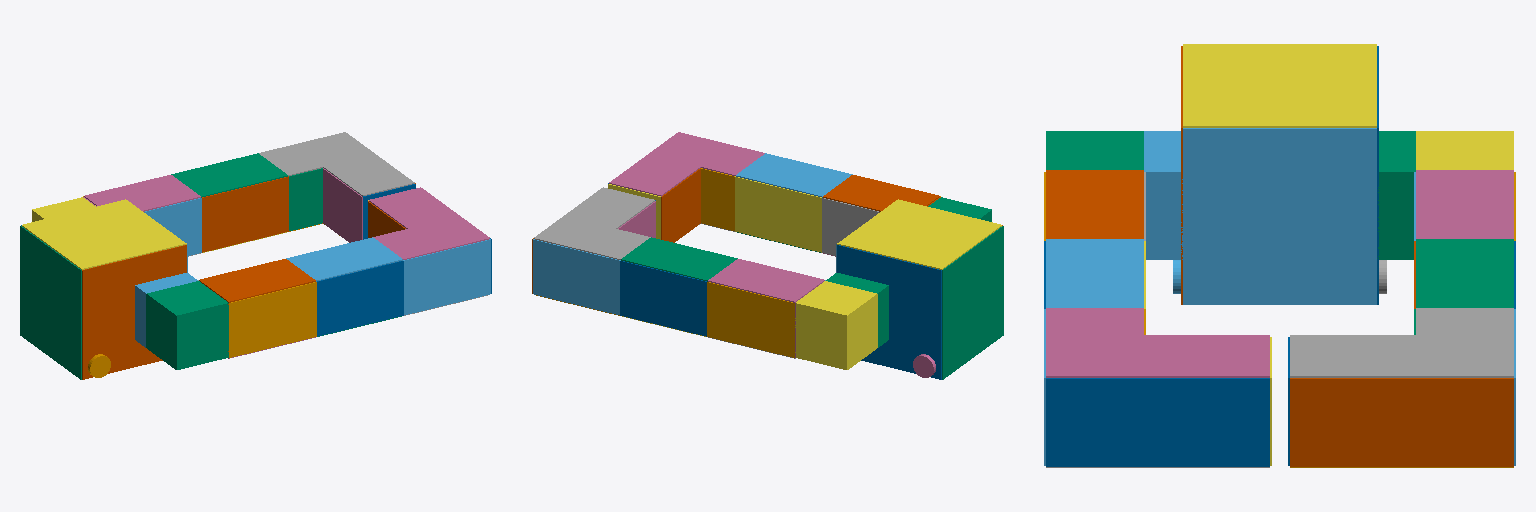
--- Facts derived from the render (not from the file) ---
3 views of the same robot in one strip: view 1: azimuth 30°, elevation 25°; view 2: azimuth 150°, elevation 25°; view 3: azimuth 270°, elevation 25° (orthographic).
Robot: robot — 78 links, 77 joints (4 continuous, 73 fixed); root link body; default pose: all joints at 0.
Links seen in each view (by area): view 1: body_sensor_0_right, body_sensor_0_stop, body_sensor_0_top, joint_4, right_arm_sensor_0_right, left_arm_sensor_1_right, right_arm_sensor_1_right, right_arm_sensor_2_right, right_arm_sensor_0_top, left_arm_sensor_1_top, right_arm_sensor_1_top, right_arm_sensor_2_top (+10 smaller); view 2: body_sensor_0_left, body_sensor_0_stop, body_sensor_0_top, joint_2, left_arm_sensor_0_left, right_arm_sensor_1_left, left_arm_sensor_1_left, left_arm_sensor_2_left, left_arm_sensor_0_top, left_arm_sensor_1_top, left_arm_sensor_2_top, right_arm_sensor_1_top (+10 smaller); view 3: body_sensor_0_start, body_sensor_0_top, left_hand_sensor_0_top, right_hand_sensor_0_top, left_arm_sensor_0_start, right_arm_sensor_0_start, left_arm_sensor_2_top, right_arm_sensor_2_top, left_arm_sensor_0_top, left_arm_sensor_1_top, right_arm_sensor_0_top, right_arm_sensor_1_top (+6 smaller).
Link boxes in pixels (x1,y1,x2,y2): body_sensor_0_right: (82,245,186,379); body_sensor_0_stop: (20,226,81,379); body_sensor_0_top: (22,199,186,269); joint_4: (146,281,228,369); right_arm_sensor_0_right: (229,282,316,357); left_arm_sensor_1_right: (202,176,288,252); right_arm_sensor_1_right: (317,261,403,336); right_arm_sensor_2_right: (403,239,490,314); right_arm_sensor_0_top: (199,259,315,302); left_arm_sensor_1_top: (171,153,287,197); right_arm_sensor_1_top: (286,237,402,281); right_arm_sensor_2_top: (373,216,489,259); body_sensor_0_left: (837,245,941,379); body_sensor_0_stop: (942,226,1003,379); body_sensor_0_top: (837,199,1001,269); joint_2: (795,281,877,369); left_arm_sensor_0_left: (707,282,794,357); right_arm_sensor_1_left: (735,176,821,252); left_arm_sensor_1_left: (620,261,706,336); left_arm_sensor_2_left: (533,239,620,314); left_arm_sensor_0_top: (708,259,824,302); left_arm_sensor_1_top: (621,237,737,281); left_arm_sensor_2_top: (534,216,650,259); right_arm_sensor_1_top: (736,153,852,197); body_sensor_0_start: (1183,128,1376,304); body_sensor_0_top: (1183,44,1376,127); left_hand_sensor_0_top: (1290,378,1415,466); right_hand_sensor_0_top: (1144,378,1269,466); left_arm_sensor_0_start: (1416,378,1513,466); right_arm_sensor_0_start: (1046,378,1143,466); left_arm_sensor_2_top: (1416,308,1513,377); right_arm_sensor_2_top: (1046,308,1143,377); left_arm_sensor_0_top: (1416,170,1513,238); left_arm_sensor_1_top: (1416,239,1513,307); right_arm_sensor_0_top: (1046,170,1143,238); right_arm_sensor_1_top: (1046,239,1143,307).
Size in the robot's own frame: 3.52 by 2.42 by 1.01 metres.
Geometry: primitives only (box / cylinder / sphere), no mesh files.

URDF robot description (robot):
<?xml version="1.0"?>
    <robot name="robot">


    <!-- body -->
    <link name="body">
        <inertial>
            <origin xyz="0 0 0" rpy="0 0 0"/>
            <mass value="100"/>
            <inertia ixx="15" ixy="15" ixz="15" iyy="15" iyz="15" izz="15"/>
        </inertial>
        <visual>
            <origin xyz="0 0 0" rpy="0 0 0"/>
            <geometry>
                <box size="1 1 1"/>
            </geometry>
        </visual>
        <collision>
            <origin xyz="0 0 0" rpy="0 0 0"/>
            <geometry>
                <box size="1 1 1"/>
            </geometry>
        </collision>
    </link>


    <!-- body_sensor_0_start -->
    <link name="body_sensor_0_start">
        <inertial>
            <origin xyz="0 0 0" rpy="0 0 0"/>
            <mass value="0"/>
            <inertia ixx="0" ixy="0" ixz="0" iyy="0" iyz="0" izz="0"/>
        </inertial>
        <visual>
            <origin xyz="0 0 0" rpy="0 0 0"/>
            <geometry>
                <box size="0.02 1 1"/>
            </geometry>
        </visual>
        <collision>
            <origin xyz="0 0 0" rpy="0 0 0"/>
            <geometry>
                <box size="0.02 1 1"/>
            </geometry>
        </collision>
    </link>
    <!-- Joint: body, body_sensor_0_start -->
    <joint name="body_body_sensor_0_start_joint" type="fixed">
        <parent link="body"/>
        <child link="body_sensor_0_start"/>
        <origin xyz="0.5 0 0"
                rpy="0 0 0"/>
        <axis xyz="1 0 0"/>
        
    </joint>


    <!-- body_sensor_0_stop -->
    <link name="body_sensor_0_stop">
        <inertial>
            <origin xyz="0 0 0" rpy="0 0 0"/>
            <mass value="0"/>
            <inertia ixx="0" ixy="0" ixz="0" iyy="0" iyz="0" izz="0"/>
        </inertial>
        <visual>
            <origin xyz="0 0 0" rpy="0 0 0"/>
            <geometry>
                <box size="0.02 1 1"/>
            </geometry>
        </visual>
        <collision>
            <origin xyz="0 0 0" rpy="0 0 0"/>
            <geometry>
                <box size="0.02 1 1"/>
            </geometry>
        </collision>
    </link>
    <!-- Joint: body, body_sensor_0_stop -->
    <joint name="body_body_sensor_0_stop_joint" type="fixed">
        <parent link="body"/>
        <child link="body_sensor_0_stop"/>
        <origin xyz="-0.5 0 0"
                rpy="0 0 0"/>
        <axis xyz="1 0 0"/>
        
    </joint>


    <!-- body_sensor_0_top -->
    <link name="body_sensor_0_top">
        <inertial>
            <origin xyz="0 0 0" rpy="0 0 0"/>
            <mass value="0"/>
            <inertia ixx="0" ixy="0" ixz="0" iyy="0" iyz="0" izz="0"/>
        </inertial>
        <visual>
            <origin xyz="0 0 0" rpy="0 0 0"/>
            <geometry>
                <box size="1.0 1 0.02"/>
            </geometry>
        </visual>
        <collision>
            <origin xyz="0 0 0" rpy="0 0 0"/>
            <geometry>
                <box size="1.0 1 0.02"/>
            </geometry>
        </collision>
    </link>
    <!-- Joint: body, body_sensor_0_top -->
    <joint name="body_body_sensor_0_top_joint" type="fixed">
        <parent link="body"/>
        <child link="body_sensor_0_top"/>
        <origin xyz="0 0 0.5"
                rpy="0 0 0"/>
        <axis xyz="1 0 0"/>
        
    </joint>


    <!-- body_sensor_0_left -->
    <link name="body_sensor_0_left">
        <inertial>
            <origin xyz="0 0 0" rpy="0 0 0"/>
            <mass value="0"/>
            <inertia ixx="0" ixy="0" ixz="0" iyy="0" iyz="0" izz="0"/>
        </inertial>
        <visual>
            <origin xyz="0 0 0" rpy="0 0 0"/>
            <geometry>
                <box size="1.0 0.02 1"/>
            </geometry>
        </visual>
        <collision>
            <origin xyz="0 0 0" rpy="0 0 0"/>
            <geometry>
                <box size="1.0 0.02 1"/>
            </geometry>
        </collision>
    </link>
    <!-- Joint: body, body_sensor_0_left -->
    <joint name="body_body_sensor_0_left_joint" type="fixed">
        <parent link="body"/>
        <child link="body_sensor_0_left"/>
        <origin xyz="0 0.5 0"
                rpy="0 0 0"/>
        <axis xyz="1 0 0"/>
        
    </joint>


    <!-- body_sensor_0_right -->
    <link name="body_sensor_0_right">
        <inertial>
            <origin xyz="0 0 0" rpy="0 0 0"/>
            <mass value="0"/>
            <inertia ixx="0" ixy="0" ixz="0" iyy="0" iyz="0" izz="0"/>
        </inertial>
        <visual>
            <origin xyz="0 0 0" rpy="0 0 0"/>
            <geometry>
                <box size="1.0 0.02 1"/>
            </geometry>
        </visual>
        <collision>
            <origin xyz="0 0 0" rpy="0 0 0"/>
            <geometry>
                <box size="1.0 0.02 1"/>
            </geometry>
        </collision>
    </link>
    <!-- Joint: body, body_sensor_0_right -->
    <joint name="body_body_sensor_0_right_joint" type="fixed">
        <parent link="body"/>
        <child link="body_sensor_0_right"/>
        <origin xyz="0 -0.5 0"
                rpy="0 0 0"/>
        <axis xyz="1 0 0"/>
        
    </joint>


    <!-- back_left_wheel -->
    <link name="back_left_wheel">
        <inertial>
            <origin xyz="0 0 0" rpy="0 0 0"/>
            <mass value="0.1"/>
            <inertia ixx="0.05" ixy="0.05" ixz="0.05" iyy="0.05" iyz="0.05" izz="0.05"/>
        </inertial>
        <visual>
            <origin xyz="0 0 0" rpy="0 0 0"/>
            <geometry>
                <cylinder radius="0.1" length="0.1"/>
            </geometry>
        </visual>
        <collision>
            <origin xyz="0 0 0" rpy="0 0 0"/>
            <geometry>
                <cylinder radius="0.1" length="0.1"/>
            </geometry>
        </collision>
    </link>
    <!-- Joint: body, back_left_wheel -->
    <joint name="body_back_left_wheel_joint" type="fixed">
        <parent link="body"/>
        <child link="back_left_wheel"/>
        <origin xyz="-0.35 0.5 -0.4"
                rpy="1.5708 0 0"/>
        <axis xyz="1 0 0"/>
        
    </joint>


    <!-- from_left_wheel -->
    <link name="from_left_wheel">
        <inertial>
            <origin xyz="0 0 0" rpy="0 0 0"/>
            <mass value="0.1"/>
            <inertia ixx="0.05" ixy="0.05" ixz="0.05" iyy="0.05" iyz="0.05" izz="0.05"/>
        </inertial>
        <visual>
            <origin xyz="0 0 0" rpy="0 0 0"/>
            <geometry>
                <cylinder radius="0.1" length="0.1"/>
            </geometry>
        </visual>
        <collision>
            <origin xyz="0 0 0" rpy="0 0 0"/>
            <geometry>
                <cylinder radius="0.1" length="0.1"/>
            </geometry>
        </collision>
    </link>
    <!-- Joint: body, from_left_wheel -->
    <joint name="body_from_left_wheel_joint" type="fixed">
        <parent link="body"/>
        <child link="from_left_wheel"/>
        <origin xyz="0.35 0.5 -0.4"
                rpy="1.5708 0 0"/>
        <axis xyz="1 0 0"/>
        
    </joint>


    <!-- back_right_wheel -->
    <link name="back_right_wheel">
        <inertial>
            <origin xyz="0 0 0" rpy="0 0 0"/>
            <mass value="0.1"/>
            <inertia ixx="0.05" ixy="0.05" ixz="0.05" iyy="0.05" iyz="0.05" izz="0.05"/>
        </inertial>
        <visual>
            <origin xyz="0 0 0" rpy="0 0 0"/>
            <geometry>
                <cylinder radius="0.1" length="0.1"/>
            </geometry>
        </visual>
        <collision>
            <origin xyz="0 0 0" rpy="0 0 0"/>
            <geometry>
                <cylinder radius="0.1" length="0.1"/>
            </geometry>
        </collision>
    </link>
    <!-- Joint: body, back_right_wheel -->
    <joint name="body_back_right_wheel_joint" type="fixed">
        <parent link="body"/>
        <child link="back_right_wheel"/>
        <origin xyz="-0.35 -0.5 -0.4"
                rpy="1.5708 0 0"/>
        <axis xyz="1 0 0"/>
        
    </joint>


    <!-- from_right_wheel -->
    <link name="from_right_wheel">
        <inertial>
            <origin xyz="0 0 0" rpy="0 0 0"/>
            <mass value="0.1"/>
            <inertia ixx="0.05" ixy="0.05" ixz="0.05" iyy="0.05" iyz="0.05" izz="0.05"/>
        </inertial>
        <visual>
            <origin xyz="0 0 0" rpy="0 0 0"/>
            <geometry>
                <cylinder radius="0.1" length="0.1"/>
            </geometry>
        </visual>
        <collision>
            <origin xyz="0 0 0" rpy="0 0 0"/>
            <geometry>
                <cylinder radius="0.1" length="0.1"/>
            </geometry>
        </collision>
    </link>
    <!-- Joint: body, from_right_wheel -->
    <joint name="body_from_right_wheel_joint" type="fixed">
        <parent link="body"/>
        <child link="from_right_wheel"/>
        <origin xyz="0.35 -0.5 -0.4"
                rpy="1.5708 0 0"/>
        <axis xyz="1 0 0"/>
        
    </joint>


    <!-- joint_1 -->
    <link name="joint_1">
        <inertial>
            <origin xyz="0 0 0" rpy="0 0 0"/>
            <mass value="0.1"/>
            <inertia ixx="0.05" ixy="0.05" ixz="0.05" iyy="0.05" iyz="0.05" izz="0.05"/>
        </inertial>
        <visual>
            <origin xyz="0 0 0" rpy="0 0 0"/>
            <geometry>
                <box size="0.5 0.2 0.5"/>
            </geometry>
        </visual>
        <collision>
            <origin xyz="0 0 0" rpy="0 0 0"/>
            <geometry>
                <box size="0.5 0.2 0.5"/>
            </geometry>
        </collision>
    </link>
    <!-- Joint: body, joint_1 -->
    <joint name="body_joint_1_joint" type="continuous">
        <parent link="body"/>
        <child link="joint_1"/>
        <origin xyz="0.25 0.6 0"
                rpy="0 0 0"/>
        <axis xyz="0 -1 0"/>
        <limit lower="0" upper="1.5707963267948966" effort="999" velocity="999"/>
    </joint>


    <!-- joint_2 -->
    <link name="joint_2">
        <inertial>
            <origin xyz="0 0 0" rpy="0 0 0"/>
            <mass value="0.1"/>
            <inertia ixx="0.05" ixy="0.05" ixz="0.05" iyy="0.05" iyz="0.05" izz="0.05"/>
        </inertial>
        <visual>
            <origin xyz="0 0 0" rpy="0 0 0"/>
            <geometry>
                <box size="0.5 0.5 0.5"/>
            </geometry>
        </visual>
        <collision>
            <origin xyz="0 0 0" rpy="0 0 0"/>
            <geometry>
                <box size="0.5 0.5 0.5"/>
            </geometry>
        </collision>
    </link>
    <!-- Joint: joint_1, joint_2 -->
    <joint name="joint_1_joint_2_joint" type="continuous">
        <parent link="joint_1"/>
        <child link="joint_2"/>
        <origin xyz="0 0.35 0"
                rpy="0 0 0"/>
        <axis xyz="0 0 1"/>
        <limit lower="-0.7853981633974483" upper="0.7853981633974483" effort="999" velocity="999"/>
    </joint>


    <!-- left_arm -->
    <link name="left_arm">
        <inertial>
            <origin xyz="0 0 0" rpy="0 0 0"/>
            <mass value="0.1"/>
            <inertia ixx="0.05" ixy="0.05" ixz="0.05" iyy="0.05" iyz="0.05" izz="0.05"/>
        </inertial>
        <visual>
            <origin xyz="0 0 0" rpy="0 0 0"/>
            <geometry>
                <box size="2.5 0.5 0.5"/>
            </geometry>
        </visual>
        <collision>
            <origin xyz="0 0 0" rpy="0 0 0"/>
            <geometry>
                <box size="2.5 0.5 0.5"/>
            </geometry>
        </collision>
    </link>


    <!-- left_arm_sensor_0_start -->
    <link name="left_arm_sensor_0_start">
        <inertial>
            <origin xyz="0 0 0" rpy="0 0 0"/>
            <mass value="0"/>
            <inertia ixx="0" ixy="0" ixz="0" iyy="0" iyz="0" izz="0"/>
        </inertial>
        <visual>
            <origin xyz="0 0 0" rpy="0 0 0"/>
            <geometry>
                <box size="0.02 0.5 0.5"/>
            </geometry>
        </visual>
        <collision>
            <origin xyz="0 0 0" rpy="0 0 0"/>
            <geometry>
                <box size="0.02 0.5 0.5"/>
            </geometry>
        </collision>
    </link>
    <!-- Joint: left_arm, left_arm_sensor_0_start -->
    <joint name="left_arm_left_arm_sensor_0_start_joint" type="fixed">
        <parent link="left_arm"/>
        <child link="left_arm_sensor_0_start"/>
        <origin xyz="1.25 0 0"
                rpy="0 0 0"/>
        <axis xyz="1 0 0"/>
        
    </joint>


    <!-- left_arm_sensor_0_top -->
    <link name="left_arm_sensor_0_top">
        <inertial>
            <origin xyz="0 0 0" rpy="0 0 0"/>
            <mass value="0"/>
            <inertia ixx="0" ixy="0" ixz="0" iyy="0" iyz="0" izz="0"/>
        </inertial>
        <visual>
            <origin xyz="0 0 0" rpy="0 0 0"/>
            <geometry>
                <box size="0.8333333333333334 0.5 0.02"/>
            </geometry>
        </visual>
        <collision>
            <origin xyz="0 0 0" rpy="0 0 0"/>
            <geometry>
                <box size="0.8333333333333334 0.5 0.02"/>
            </geometry>
        </collision>
    </link>
    <!-- Joint: left_arm, left_arm_sensor_0_top -->
    <joint name="left_arm_left_arm_sensor_0_top_joint" type="fixed">
        <parent link="left_arm"/>
        <child link="left_arm_sensor_0_top"/>
        <origin xyz="-0.8333333333333333 0 0.25"
                rpy="0 0 0"/>
        <axis xyz="1 0 0"/>
        
    </joint>


    <!-- left_arm_sensor_0_bottom -->
    <link name="left_arm_sensor_0_bottom">
        <inertial>
            <origin xyz="0 0 0" rpy="0 0 0"/>
            <mass value="0"/>
            <inertia ixx="0" ixy="0" ixz="0" iyy="0" iyz="0" izz="0"/>
        </inertial>
        <visual>
            <origin xyz="0 0 0" rpy="0 0 0"/>
            <geometry>
                <box size="0.8333333333333334 0.5 0.02"/>
            </geometry>
        </visual>
        <collision>
            <origin xyz="0 0 0" rpy="0 0 0"/>
            <geometry>
                <box size="0.8333333333333334 0.5 0.02"/>
            </geometry>
        </collision>
    </link>
    <!-- Joint: left_arm, left_arm_sensor_0_bottom -->
    <joint name="left_arm_left_arm_sensor_0_bottom_joint" type="fixed">
        <parent link="left_arm"/>
        <child link="left_arm_sensor_0_bottom"/>
        <origin xyz="-0.8333333333333333 0 -0.25"
                rpy="0 0 0"/>
        <axis xyz="1 0 0"/>
        
    </joint>


    <!-- left_arm_sensor_0_left -->
    <link name="left_arm_sensor_0_left">
        <inertial>
            <origin xyz="0 0 0" rpy="0 0 0"/>
            <mass value="0"/>
            <inertia ixx="0" ixy="0" ixz="0" iyy="0" iyz="0" izz="0"/>
        </inertial>
        <visual>
            <origin xyz="0 0 0" rpy="0 0 0"/>
            <geometry>
                <box size="0.8333333333333334 0.02 0.5"/>
            </geometry>
        </visual>
        <collision>
            <origin xyz="0 0 0" rpy="0 0 0"/>
            <geometry>
                <box size="0.8333333333333334 0.02 0.5"/>
            </geometry>
        </collision>
    </link>
    <!-- Joint: left_arm, left_arm_sensor_0_left -->
    <joint name="left_arm_left_arm_sensor_0_left_joint" type="fixed">
        <parent link="left_arm"/>
        <child link="left_arm_sensor_0_left"/>
        <origin xyz="-0.8333333333333333 0.25 0"
                rpy="0 0 0"/>
        <axis xyz="1 0 0"/>
        
    </joint>


    <!-- left_arm_sensor_0_right -->
    <link name="left_arm_sensor_0_right">
        <inertial>
            <origin xyz="0 0 0" rpy="0 0 0"/>
            <mass value="0"/>
            <inertia ixx="0" ixy="0" ixz="0" iyy="0" iyz="0" izz="0"/>
        </inertial>
        <visual>
            <origin xyz="0 0 0" rpy="0 0 0"/>
            <geometry>
                <box size="0.8333333333333334 0.02 0.5"/>
            </geometry>
        </visual>
        <collision>
            <origin xyz="0 0 0" rpy="0 0 0"/>
            <geometry>
                <box size="0.8333333333333334 0.02 0.5"/>
            </geometry>
        </collision>
    </link>
    <!-- Joint: left_arm, left_arm_sensor_0_right -->
    <joint name="left_arm_left_arm_sensor_0_right_joint" type="fixed">
        <parent link="left_arm"/>
        <child link="left_arm_sensor_0_right"/>
        <origin xyz="-0.8333333333333333 -0.25 0"
                rpy="0 0 0"/>
        <axis xyz="1 0 0"/>
        
    </joint>


    <!-- left_arm_sensor_1_top -->
    <link name="left_arm_sensor_1_top">
        <inertial>
            <origin xyz="0 0 0" rpy="0 0 0"/>
            <mass value="0"/>
            <inertia ixx="0" ixy="0" ixz="0" iyy="0" iyz="0" izz="0"/>
        </inertial>
        <visual>
            <origin xyz="0 0 0" rpy="0 0 0"/>
            <geometry>
                <box size="0.8333333333333334 0.5 0.02"/>
            </geometry>
        </visual>
        <collision>
            <origin xyz="0 0 0" rpy="0 0 0"/>
            <geometry>
                <box size="0.8333333333333334 0.5 0.02"/>
            </geometry>
        </collision>
    </link>
    <!-- Joint: left_arm, left_arm_sensor_1_top -->
    <joint name="left_arm_left_arm_sensor_1_top_joint" type="fixed">
        <parent link="left_arm"/>
        <child link="left_arm_sensor_1_top"/>
        <origin xyz="1.1102230246251565e-16 0 0.25"
                rpy="0 0 0"/>
        <axis xyz="1 0 0"/>
        
    </joint>


    <!-- left_arm_sensor_1_bottom -->
    <link name="left_arm_sensor_1_bottom">
        <inertial>
            <origin xyz="0 0 0" rpy="0 0 0"/>
            <mass value="0"/>
            <inertia ixx="0" ixy="0" ixz="0" iyy="0" iyz="0" izz="0"/>
        </inertial>
        <visual>
            <origin xyz="0 0 0" rpy="0 0 0"/>
            <geometry>
                <box size="0.8333333333333334 0.5 0.02"/>
            </geometry>
        </visual>
        <collision>
            <origin xyz="0 0 0" rpy="0 0 0"/>
            <geometry>
                <box size="0.8333333333333334 0.5 0.02"/>
            </geometry>
        </collision>
    </link>
    <!-- Joint: left_arm, left_arm_sensor_1_bottom -->
    <joint name="left_arm_left_arm_sensor_1_bottom_joint" type="fixed">
        <parent link="left_arm"/>
        <child link="left_arm_sensor_1_bottom"/>
        <origin xyz="1.1102230246251565e-16 0 -0.25"
                rpy="0 0 0"/>
        <axis xyz="1 0 0"/>
        
    </joint>


    <!-- left_arm_sensor_1_left -->
    <link name="left_arm_sensor_1_left">
        <inertial>
            <origin xyz="0 0 0" rpy="0 0 0"/>
            <mass value="0"/>
            <inertia ixx="0" ixy="0" ixz="0" iyy="0" iyz="0" izz="0"/>
        </inertial>
        <visual>
            <origin xyz="0 0 0" rpy="0 0 0"/>
            <geometry>
                <box size="0.8333333333333334 0.02 0.5"/>
            </geometry>
        </visual>
        <collision>
            <origin xyz="0 0 0" rpy="0 0 0"/>
            <geometry>
                <box size="0.8333333333333334 0.02 0.5"/>
            </geometry>
        </collision>
    </link>
    <!-- Joint: left_arm, left_arm_sensor_1_left -->
    <joint name="left_arm_left_arm_sensor_1_left_joint" type="fixed">
        <parent link="left_arm"/>
        <child link="left_arm_sensor_1_left"/>
        <origin xyz="1.1102230246251565e-16 0.25 0"
                rpy="0 0 0"/>
        <axis xyz="1 0 0"/>
        
    </joint>


    <!-- left_arm_sensor_1_right -->
    <link name="left_arm_sensor_1_right">
        <inertial>
            <origin xyz="0 0 0" rpy="0 0 0"/>
            <mass value="0"/>
            <inertia ixx="0" ixy="0" ixz="0" iyy="0" iyz="0" izz="0"/>
        </inertial>
        <visual>
            <origin xyz="0 0 0" rpy="0 0 0"/>
            <geometry>
                <box size="0.8333333333333334 0.02 0.5"/>
            </geometry>
        </visual>
        <collision>
            <origin xyz="0 0 0" rpy="0 0 0"/>
            <geometry>
                <box size="0.8333333333333334 0.02 0.5"/>
            </geometry>
        </collision>
    </link>
    <!-- Joint: left_arm, left_arm_sensor_1_right -->
    <joint name="left_arm_left_arm_sensor_1_right_joint" type="fixed">
        <parent link="left_arm"/>
        <child link="left_arm_sensor_1_right"/>
        <origin xyz="1.1102230246251565e-16 -0.25 0"
                rpy="0 0 0"/>
        <axis xyz="1 0 0"/>
        
    </joint>


    <!-- left_arm_sensor_2_stop -->
    <link name="left_arm_sensor_2_stop">
        <inertial>
            <origin xyz="0 0 0" rpy="0 0 0"/>
            <mass value="0"/>
            <inertia ixx="0" ixy="0" ixz="0" iyy="0" iyz="0" izz="0"/>
        </inertial>
        <visual>
            <origin xyz="0 0 0" rpy="0 0 0"/>
            <geometry>
                <box size="0.02 0.5 0.5"/>
            </geometry>
        </visual>
        <collision>
            <origin xyz="0 0 0" rpy="0 0 0"/>
            <geometry>
                <box size="0.02 0.5 0.5"/>
            </geometry>
        </collision>
    </link>
    <!-- Joint: left_arm, left_arm_sensor_2_stop -->
    <joint name="left_arm_left_arm_sensor_2_stop_joint" type="fixed">
        <parent link="left_arm"/>
        <child link="left_arm_sensor_2_stop"/>
        <origin xyz="-1.25 0 0"
                rpy="0 0 0"/>
        <axis xyz="1 0 0"/>
        
    </joint>


    <!-- left_arm_sensor_2_top -->
    <link name="left_arm_sensor_2_top">
        <inertial>
            <origin xyz="0 0 0" rpy="0 0 0"/>
            <mass value="0"/>
            <inertia ixx="0" ixy="0" ixz="0" iyy="0" iyz="0" izz="0"/>
        </inertial>
        <visual>
            <origin xyz="0 0 0" rpy="0 0 0"/>
            <geometry>
                <box size="0.8333333333333334 0.5 0.02"/>
            </geometry>
        </visual>
        <collision>
            <origin xyz="0 0 0" rpy="0 0 0"/>
            <geometry>
                <box size="0.8333333333333334 0.5 0.02"/>
            </geometry>
        </collision>
    </link>
    <!-- Joint: left_arm, left_arm_sensor_2_top -->
    <joint name="left_arm_left_arm_sensor_2_top_joint" type="fixed">
        <parent link="left_arm"/>
        <child link="left_arm_sensor_2_top"/>
        <origin xyz="0.8333333333333335 0 0.25"
                rpy="0 0 0"/>
        <axis xyz="1 0 0"/>
        
    </joint>


    <!-- left_arm_sensor_2_bottom -->
    <link name="left_arm_sensor_2_bottom">
        <inertial>
            <origin xyz="0 0 0" rpy="0 0 0"/>
            <mass value="0"/>
            <inertia ixx="0" ixy="0" ixz="0" iyy="0" iyz="0" izz="0"/>
        </inertial>
        <visual>
            <origin xyz="0 0 0" rpy="0 0 0"/>
            <geometry>
                <box size="0.8333333333333334 0.5 0.02"/>
            </geometry>
        </visual>
        <collision>
            <origin xyz="0 0 0" rpy="0 0 0"/>
            <geometry>
                <box size="0.8333333333333334 0.5 0.02"/>
            </geometry>
        </collision>
    </link>
    <!-- Joint: left_arm, left_arm_sensor_2_bottom -->
    <joint name="left_arm_left_arm_sensor_2_bottom_joint" type="fixed">
        <parent link="left_arm"/>
        <child link="left_arm_sensor_2_bottom"/>
        <origin xyz="0.8333333333333335 0 -0.25"
                rpy="0 0 0"/>
        <axis xyz="1 0 0"/>
        
    </joint>


    <!-- left_arm_sensor_2_left -->
    <link name="left_arm_sensor_2_left">
        <inertial>
            <origin xyz="0 0 0" rpy="0 0 0"/>
            <mass value="0"/>
            <inertia ixx="0" ixy="0" ixz="0" iyy="0" iyz="0" izz="0"/>
        </inertial>
        <visual>
            <origin xyz="0 0 0" rpy="0 0 0"/>
            <geometry>
                <box size="0.8333333333333334 0.02 0.5"/>
            </geometry>
        </visual>
        <collision>
            <origin xyz="0 0 0" rpy="0 0 0"/>
            <geometry>
                <box size="0.8333333333333334 0.02 0.5"/>
            </geometry>
        </collision>
    </link>
    <!-- Joint: left_arm, left_arm_sensor_2_left -->
    <joint name="left_arm_left_arm_sensor_2_left_joint" type="fixed">
        <parent link="left_arm"/>
        <child link="left_arm_sensor_2_left"/>
        <origin xyz="0.8333333333333335 0.25 0"
                rpy="0 0 0"/>
        <axis xyz="1 0 0"/>
        
    </joint>


    <!-- left_arm_sensor_2_right -->
    <link name="left_arm_sensor_2_right">
        <inertial>
            <origin xyz="0 0 0" rpy="0 0 0"/>
            <mass value="0"/>
            <inertia ixx="0" ixy="0" ixz="0" iyy="0" iyz="0" izz="0"/>
        </inertial>
        <visual>
            <origin xyz="0 0 0" rpy="0 0 0"/>
            <geometry>
                <box size="0.8333333333333334 0.02 0.5"/>
            </geometry>
        </visual>
        <collision>
            <origin xyz="0 0 0" rpy="0 0 0"/>
            <geometry>
                <box size="0.8333333333333334 0.02 0.5"/>
            </geometry>
        </collision>
    </link>
    <!-- Joint: left_arm, left_arm_sensor_2_right -->
    <joint name="left_arm_left_arm_sensor_2_right_joint" type="fixed">
        <parent link="left_arm"/>
        <child link="left_arm_sensor_2_right"/>
        <origin xyz="0.8333333333333335 -0.25 0"
                rpy="0 0 0"/>
        <axis xyz="1 0 0"/>
        
    </joint>
    <!-- Joint: joint_2, left_arm -->
    <joint name="joint_2_left_arm_joint" type="fixed">
        <parent link="joint_2"/>
        <child link="left_arm"/>
        <origin xyz="1.5 0 0"
                rpy="0 0 0"/>
        <axis xyz="1 0 0"/>
        
    </joint>


    <!-- left_hand -->
    <link name="left_hand">
        <inertial>
            <origin xyz="0 0 0" rpy="0 0 0"/>
            <mass value="0.1"/>
            <inertia ixx="0.05" ixy="0.05" ixz="0.05" iyy="0.05" iyz="0.05" izz="0.05"/>
        </inertial>
        <visual>
            <origin xyz="0 0 0" rpy="0 0 0"/>
            <geometry>
                <box size="0.5 0.65 0.5"/>
            </geometry>
        </visual>
        <collision>
            <origin xyz="0 0 0" rpy="0 0 0"/>
            <geometry>
                <box size="0.5 0.65 0.5"/>
            </geometry>
        </collision>
    </link>


    <!-- left_hand_sensor_0_stop -->
    <link name="left_hand_sensor_0_stop">
        <inertial>
            <origin xyz="0 0 0" rpy="0 0 0"/>
            <mass value="0"/>
            <inertia ixx="0" ixy="0" ixz="0" iyy="0" iyz="0" izz="0"/>
        </inertial>
        <visual>
            <origin xyz="0 0 0" rpy="0 0 0"/>
            <geometry>
                <box size="0.5 0.02 0.5"/>
            </geometry>
        </visual>
        <collision>
            <origin xyz="0 0 0" rpy="0 0 0"/>
            <geometry>
                <box size="0.5 0.02 0.5"/>
            </geometry>
        </collision>
    </link>
    <!-- Joint: left_hand, left_hand_sensor_0_stop -->
    <joint name="left_hand_left_hand_sensor_0_stop_joint" type="fixed">
        <parent link="left_hand"/>
        <child link="left_hand_sensor_0_stop"/>
        <origin xyz="0 -0.325 0"
                rpy="0 0 0"/>
        <axis xyz="0 0 1"/>
        
    </joint>


    <!-- left_hand_sensor_0_top -->
    <link name="left_hand_sensor_0_top">
        <inertial>
            <origin xyz="0 0 0" rpy="0 0 0"/>
            <mass value="0"/>
            <inertia ixx="0" ixy="0" ixz="0" iyy="0" iyz="0" izz="0"/>
        </inertial>
        <visual>
            <origin xyz="0 0 0" rpy="0 0 0"/>
            <geometry>
                <box size="0.02 0.65 0.5"/>
            </geometry>
        </visual>
        <collision>
            <origin xyz="0 0 0" rpy="0 0 0"/>
            <geometry>
                <box size="0.02 0.65 0.5"/>
            </geometry>
        </collision>
    </link>
    <!-- Joint: left_hand, left_hand_sensor_0_top -->
    <joint name="left_hand_left_hand_sensor_0_top_joint" type="fixed">
        <parent link="left_hand"/>
        <child link="left_hand_sensor_0_top"/>
        <origin xyz="0.25 0 0"
                rpy="0 0 0"/>
        <axis xyz="0 0 1"/>
        
    </joint>


    <!-- left_hand_sensor_0_bottom -->
    <link name="left_hand_sensor_0_bottom">
        <inertial>
            <origin xyz="0 0 0" rpy="0 0 0"/>
            <mass value="0"/>
            <inertia ixx="0" ixy="0" ixz="0" iyy="0" iyz="0" izz="0"/>
        </inertial>
        <visual>
            <origin xyz="0 0 0" rpy="0 0 0"/>
            <geometry>
                <box size="0.02 0.65 0.5"/>
            </geometry>
        </visual>
        <collision>
            <origin xyz="0 0 0" rpy="0 0 0"/>
            <geometry>
                <box size="0.02 0.65 0.5"/>
            </geometry>
        </collision>
    </link>
    <!-- Joint: left_hand, left_hand_sensor_0_bottom -->
    <joint name="left_hand_left_hand_sensor_0_bottom_joint" type="fixed">
        <parent link="left_hand"/>
        <child link="left_hand_sensor_0_bottom"/>
        <origin xyz="-0.25 0 0"
                rpy="0 0 0"/>
        <axis xyz="0 0 1"/>
        
    </joint>


    <!-- left_hand_sensor_0_left -->
    <link name="left_hand_sensor_0_left">
        <inertial>
            <origin xyz="0 0 0" rpy="0 0 0"/>
            <mass value="0"/>
            <inertia ixx="0" ixy="0" ixz="0" iyy="0" iyz="0" izz="0"/>
        </inertial>
        <visual>
            <origin xyz="0 0 0" rpy="0 0 0"/>
            <geometry>
                <box size="0.5 0.65 0.02"/>
            </geometry>
        </visual>
        <collision>
            <origin xyz="0 0 0" rpy="0 0 0"/>
            <geometry>
                <box size="0.5 0.65 0.02"/>
            </geometry>
        </collision>
    </link>
    <!-- Joint: left_hand, left_hand_sensor_0_left -->
    <joint name="left_hand_left_hand_sensor_0_left_joint" type="fixed">
        <parent link="left_hand"/>
        <child link="left_hand_sensor_0_left"/>
        <origin xyz="0 0 0.25"
                rpy="0 0 0"/>
        <axis xyz="0 0 1"/>
        
    </joint>


    <!-- left_hand_sensor_0_right -->
    <link name="left_hand_sensor_0_right">
        <inertial>
            <origin xyz="0 0 0" rpy="0 0 0"/>
            <mass value="0"/>
            <inertia ixx="0" ixy="0" ixz="0" iyy="0" iyz="0" izz="0"/>
        </inertial>
        <visual>
            <origin xyz="0 0 0" rpy="0 0 0"/>
            <geometry>
                <box size="0.5 0.65 0.02"/>
            </geometry>
        </visual>
        <collision>
            <origin xyz="0 0 0" rpy="0 0 0"/>
            <geometry>
                <box size="0.5 0.65 0.02"/>
            </geometry>
        </collision>
    </link>
    <!-- Joint: left_hand, left_hand_sensor_0_right -->
    <joint name="left_hand_left_hand_sensor_0_right_joint" type="fixed">
        <parent link="left_hand"/>
        <child link="left_hand_sensor_0_right"/>
        <origin xyz="0 0 -0.25"
                rpy="0 0 0"/>
        <axis xyz="0 0 1"/>
        
    </joint>
    <!-- Joint: left_arm, left_hand -->
    <joint name="left_arm_left_hand_joint" type="fixed">
        <parent link="left_arm"/>
        <child link="left_hand"/>
        <origin xyz="1.0 -0.575 0"
                rpy="0 0 0"/>
        <axis xyz="0 0 1"/>
        
    </joint>


    <!-- joint_3 -->
    <link name="joint_3">
        <inertial>
            <origin xyz="0 0 0" rpy="0 0 0"/>
            <mass value="0.1"/>
            <inertia ixx="0.05" ixy="0.05" ixz="0.05" iyy="0.05" iyz="0.05" izz="0.05"/>
        </inertial>
        <visual>
            <origin xyz="0 0 0" rpy="0 0 0"/>
            <geometry>
                <box size="0.5 0.2 0.5"/>
            </geometry>
        </visual>
        <collision>
            <origin xyz="0 0 0" rpy="0 0 0"/>
            <geometry>
                <box size="0.5 0.2 0.5"/>
            </geometry>
        </collision>
    </link>
    <!-- Joint: body, joint_3 -->
    <joint name="body_joint_3_joint" type="continuous">
        <parent link="body"/>
        <child link="joint_3"/>
        <origin xyz="0.25 -0.6 0"
                rpy="0 0 0"/>
        <axis xyz="0 -1 0"/>
        <limit lower="0" upper="1.5707963267948966" effort="999" velocity="999"/>
    </joint>


    <!-- joint_4 -->
    <link name="joint_4">
        <inertial>
            <origin xyz="0 0 0" rpy="0 0 0"/>
            <mass value="0.1"/>
            <inertia ixx="0.05" ixy="0.05" ixz="0.05" iyy="0.05" iyz="0.05" izz="0.05"/>
        </inertial>
        <visual>
            <origin xyz="0 0 0" rpy="0 0 0"/>
            <geometry>
                <box size="0.5 0.5 0.5"/>
            </geometry>
        </visual>
        <collision>
            <origin xyz="0 0 0" rpy="0 0 0"/>
            <geometry>
                <box size="0.5 0.5 0.5"/>
            </geometry>
        </collision>
    </link>
    <!-- Joint: joint_3, joint_4 -->
    <joint name="joint_3_joint_4_joint" type="continuous">
        <parent link="joint_3"/>
        <child link="joint_4"/>
        <origin xyz="0 -0.35 0"
                rpy="0 0 0"/>
        <axis xyz="0 0 1"/>
        <limit lower="-0.7853981633974483" upper="0.7853981633974483" effort="999" velocity="999"/>
    </joint>


    <!-- right_arm -->
    <link name="right_arm">
        <inertial>
            <origin xyz="0 0 0" rpy="0 0 0"/>
            <mass value="0.1"/>
            <inertia ixx="0.05" ixy="0.05" ixz="0.05" iyy="0.05" iyz="0.05" izz="0.05"/>
        </inertial>
        <visual>
            <origin xyz="0 0 0" rpy="0 0 0"/>
            <geometry>
                <box size="2.5 0.5 0.5"/>
            </geometry>
        </visual>
        <collision>
            <origin xyz="0 0 0" rpy="0 0 0"/>
            <geometry>
                <box size="2.5 0.5 0.5"/>
            </geometry>
        </collision>
    </link>


    <!-- right_arm_sensor_0_start -->
    <link name="right_arm_sensor_0_start">
        <inertial>
            <origin xyz="0 0 0" rpy="0 0 0"/>
            <mass value="0"/>
            <inertia ixx="0" ixy="0" ixz="0" iyy="0" iyz="0" izz="0"/>
        </inertial>
        <visual>
            <origin xyz="0 0 0" rpy="0 0 0"/>
            <geometry>
                <box size="0.02 0.5 0.5"/>
            </geometry>
        </visual>
        <collision>
            <origin xyz="0 0 0" rpy="0 0 0"/>
            <geometry>
                <box size="0.02 0.5 0.5"/>
            </geometry>
        </collision>
    </link>
    <!-- Joint: right_arm, right_arm_sensor_0_start -->
    <joint name="right_arm_right_arm_sensor_0_start_joint" type="fixed">
        <parent link="right_arm"/>
        <child link="right_arm_sensor_0_start"/>
        <origin xyz="1.25 0 0"
                rpy="0 0 0"/>
        <axis xyz="1 0 0"/>
        
    </joint>


    <!-- right_arm_sensor_0_top -->
    <link name="right_arm_sensor_0_top">
        <inertial>
            <origin xyz="0 0 0" rpy="0 0 0"/>
            <mass value="0"/>
            <inertia ixx="0" ixy="0" ixz="0" iyy="0" iyz="0" izz="0"/>
        </inertial>
        <visual>
            <origin xyz="0 0 0" rpy="0 0 0"/>
            <geometry>
                <box size="0.8333333333333334 0.5 0.02"/>
            </geometry>
        </visual>
        <collision>
            <origin xyz="0 0 0" rpy="0 0 0"/>
            <geometry>
                <box size="0.8333333333333334 0.5 0.02"/>
            </geometry>
        </collision>
    </link>
    <!-- Joint: right_arm, right_arm_sensor_0_top -->
    <joint name="right_arm_right_arm_sensor_0_top_joint" type="fixed">
        <parent link="right_arm"/>
        <child link="right_arm_sensor_0_top"/>
        <origin xyz="-0.8333333333333333 0 0.25"
                rpy="0 0 0"/>
        <axis xyz="1 0 0"/>
        
    </joint>


    <!-- right_arm_sensor_0_bottom -->
    <link name="right_arm_sensor_0_bottom">
        <inertial>
            <origin xyz="0 0 0" rpy="0 0 0"/>
            <mass value="0"/>
            <inertia ixx="0" ixy="0" ixz="0" iyy="0" iyz="0" izz="0"/>
        </inertial>
        <visual>
            <origin xyz="0 0 0" rpy="0 0 0"/>
            <geometry>
                <box size="0.8333333333333334 0.5 0.02"/>
            </geometry>
        </visual>
        <collision>
            <origin xyz="0 0 0" rpy="0 0 0"/>
            <geometry>
                <box size="0.8333333333333334 0.5 0.02"/>
            </geometry>
        </collision>
    </link>
    <!-- Joint: right_arm, right_arm_sensor_0_bottom -->
    <joint name="right_arm_right_arm_sensor_0_bottom_joint" type="fixed">
        <parent link="right_arm"/>
        <child link="right_arm_sensor_0_bottom"/>
        <origin xyz="-0.8333333333333333 0 -0.25"
                rpy="0 0 0"/>
        <axis xyz="1 0 0"/>
        
    </joint>


    <!-- right_arm_sensor_0_left -->
    <link name="right_arm_sensor_0_left">
        <inertial>
            <origin xyz="0 0 0" rpy="0 0 0"/>
            <mass value="0"/>
            <inertia ixx="0" ixy="0" ixz="0" iyy="0" iyz="0" izz="0"/>
        </inertial>
        <visual>
            <origin xyz="0 0 0" rpy="0 0 0"/>
            <geometry>
                <box size="0.8333333333333334 0.02 0.5"/>
            </geometry>
        </visual>
        <collision>
            <origin xyz="0 0 0" rpy="0 0 0"/>
            <geometry>
                <box size="0.8333333333333334 0.02 0.5"/>
            </geometry>
        </collision>
    </link>
    <!-- Joint: right_arm, right_arm_sensor_0_left -->
    <joint name="right_arm_right_arm_sensor_0_left_joint" type="fixed">
        <parent link="right_arm"/>
        <child link="right_arm_sensor_0_left"/>
        <origin xyz="-0.8333333333333333 0.25 0"
                rpy="0 0 0"/>
        <axis xyz="1 0 0"/>
        
    </joint>


    <!-- right_arm_sensor_0_right -->
    <link name="right_arm_sensor_0_right">
        <inertial>
            <origin xyz="0 0 0" rpy="0 0 0"/>
            <mass value="0"/>
            <inertia ixx="0" ixy="0" ixz="0" iyy="0" iyz="0" izz="0"/>
        </inertial>
        <visual>
            <origin xyz="0 0 0" rpy="0 0 0"/>
            <geometry>
                <box size="0.8333333333333334 0.02 0.5"/>
            </geometry>
        </visual>
        <collision>
            <origin xyz="0 0 0" rpy="0 0 0"/>
            <geometry>
                <box size="0.8333333333333334 0.02 0.5"/>
            </geometry>
        </collision>
    </link>
    <!-- Joint: right_arm, right_arm_sensor_0_right -->
    <joint name="right_arm_right_arm_sensor_0_right_joint" type="fixed">
        <parent link="right_arm"/>
        <child link="right_arm_sensor_0_right"/>
        <origin xyz="-0.8333333333333333 -0.25 0"
                rpy="0 0 0"/>
        <axis xyz="1 0 0"/>
        
    </joint>


    <!-- right_arm_sensor_1_top -->
    <link name="right_arm_sensor_1_top">
        <inertial>
            <origin xyz="0 0 0" rpy="0 0 0"/>
            <mass value="0"/>
            <inertia ixx="0" ixy="0" ixz="0" iyy="0" iyz="0" izz="0"/>
        </inertial>
        <visual>
            <origin xyz="0 0 0" rpy="0 0 0"/>
            <geometry>
                <box size="0.8333333333333334 0.5 0.02"/>
            </geometry>
        </visual>
        <collision>
            <origin xyz="0 0 0" rpy="0 0 0"/>
            <geometry>
                <box size="0.8333333333333334 0.5 0.02"/>
            </geometry>
        </collision>
    </link>
    <!-- Joint: right_arm, right_arm_sensor_1_top -->
    <joint name="right_arm_right_arm_sensor_1_top_joint" type="fixed">
        <parent link="right_arm"/>
        <child link="right_arm_sensor_1_top"/>
        <origin xyz="1.1102230246251565e-16 0 0.25"
                rpy="0 0 0"/>
        <axis xyz="1 0 0"/>
        
    </joint>


    <!-- right_arm_sensor_1_bottom -->
    <link name="right_arm_sensor_1_bottom">
        <inertial>
            <origin xyz="0 0 0" rpy="0 0 0"/>
            <mass value="0"/>
            <inertia ixx="0" ixy="0" ixz="0" iyy="0" iyz="0" izz="0"/>
        </inertial>
        <visual>
            <origin xyz="0 0 0" rpy="0 0 0"/>
            <geometry>
                <box size="0.8333333333333334 0.5 0.02"/>
            </geometry>
        </visual>
        <collision>
            <origin xyz="0 0 0" rpy="0 0 0"/>
            <geometry>
                <box size="0.8333333333333334 0.5 0.02"/>
            </geometry>
        </collision>
    </link>
    <!-- Joint: right_arm, right_arm_sensor_1_bottom -->
    <joint name="right_arm_right_arm_sensor_1_bottom_joint" type="fixed">
        <parent link="right_arm"/>
        <child link="right_arm_sensor_1_bottom"/>
        <origin xyz="1.1102230246251565e-16 0 -0.25"
                rpy="0 0 0"/>
        <axis xyz="1 0 0"/>
        
    </joint>


    <!-- right_arm_sensor_1_left -->
    <link name="right_arm_sensor_1_left">
        <inertial>
            <origin xyz="0 0 0" rpy="0 0 0"/>
            <mass value="0"/>
            <inertia ixx="0" ixy="0" ixz="0" iyy="0" iyz="0" izz="0"/>
        </inertial>
        <visual>
            <origin xyz="0 0 0" rpy="0 0 0"/>
            <geometry>
                <box size="0.8333333333333334 0.02 0.5"/>
            </geometry>
        </visual>
        <collision>
            <origin xyz="0 0 0" rpy="0 0 0"/>
            <geometry>
                <box size="0.8333333333333334 0.02 0.5"/>
            </geometry>
        </collision>
    </link>
    <!-- Joint: right_arm, right_arm_sensor_1_left -->
    <joint name="right_arm_right_arm_sensor_1_left_joint" type="fixed">
        <parent link="right_arm"/>
        <child link="right_arm_sensor_1_left"/>
        <origin xyz="1.1102230246251565e-16 0.25 0"
                rpy="0 0 0"/>
        <axis xyz="1 0 0"/>
        
    </joint>


    <!-- right_arm_sensor_1_right -->
    <link name="right_arm_sensor_1_right">
        <inertial>
            <origin xyz="0 0 0" rpy="0 0 0"/>
            <mass value="0"/>
            <inertia ixx="0" ixy="0" ixz="0" iyy="0" iyz="0" izz="0"/>
        </inertial>
        <visual>
            <origin xyz="0 0 0" rpy="0 0 0"/>
            <geometry>
                <box size="0.8333333333333334 0.02 0.5"/>
            </geometry>
        </visual>
        <collision>
            <origin xyz="0 0 0" rpy="0 0 0"/>
            <geometry>
                <box size="0.8333333333333334 0.02 0.5"/>
            </geometry>
        </collision>
    </link>
    <!-- Joint: right_arm, right_arm_sensor_1_right -->
    <joint name="right_arm_right_arm_sensor_1_right_joint" type="fixed">
        <parent link="right_arm"/>
        <child link="right_arm_sensor_1_right"/>
        <origin xyz="1.1102230246251565e-16 -0.25 0"
                rpy="0 0 0"/>
        <axis xyz="1 0 0"/>
        
    </joint>


    <!-- right_arm_sensor_2_stop -->
    <link name="right_arm_sensor_2_stop">
        <inertial>
            <origin xyz="0 0 0" rpy="0 0 0"/>
            <mass value="0"/>
            <inertia ixx="0" ixy="0" ixz="0" iyy="0" iyz="0" izz="0"/>
        </inertial>
        <visual>
            <origin xyz="0 0 0" rpy="0 0 0"/>
            <geometry>
                <box size="0.02 0.5 0.5"/>
            </geometry>
        </visual>
        <collision>
            <origin xyz="0 0 0" rpy="0 0 0"/>
            <geometry>
                <box size="0.02 0.5 0.5"/>
            </geometry>
        </collision>
    </link>
    <!-- Joint: right_arm, right_arm_sensor_2_stop -->
    <joint name="right_arm_right_arm_sensor_2_stop_joint" type="fixed">
        <parent link="right_arm"/>
        <child link="right_arm_sensor_2_stop"/>
        <origin xyz="-1.25 0 0"
                rpy="0 0 0"/>
        <axis xyz="1 0 0"/>
        
    </joint>


    <!-- right_arm_sensor_2_top -->
    <link name="right_arm_sensor_2_top">
        <inertial>
            <origin xyz="0 0 0" rpy="0 0 0"/>
            <mass value="0"/>
            <inertia ixx="0" ixy="0" ixz="0" iyy="0" iyz="0" izz="0"/>
        </inertial>
        <visual>
            <origin xyz="0 0 0" rpy="0 0 0"/>
            <geometry>
                <box size="0.8333333333333334 0.5 0.02"/>
            </geometry>
        </visual>
        <collision>
            <origin xyz="0 0 0" rpy="0 0 0"/>
            <geometry>
                <box size="0.8333333333333334 0.5 0.02"/>
            </geometry>
        </collision>
    </link>
    <!-- Joint: right_arm, right_arm_sensor_2_top -->
    <joint name="right_arm_right_arm_sensor_2_top_joint" type="fixed">
        <parent link="right_arm"/>
        <child link="right_arm_sensor_2_top"/>
        <origin xyz="0.8333333333333335 0 0.25"
                rpy="0 0 0"/>
        <axis xyz="1 0 0"/>
        
    </joint>


    <!-- right_arm_sensor_2_bottom -->
    <link name="right_arm_sensor_2_bottom">
        <inertial>
            <origin xyz="0 0 0" rpy="0 0 0"/>
            <mass value="0"/>
            <inertia ixx="0" ixy="0" ixz="0" iyy="0" iyz="0" izz="0"/>
        </inertial>
        <visual>
            <origin xyz="0 0 0" rpy="0 0 0"/>
            <geometry>
                <box size="0.8333333333333334 0.5 0.02"/>
            </geometry>
        </visual>
        <collision>
            <origin xyz="0 0 0" rpy="0 0 0"/>
            <geometry>
                <box size="0.8333333333333334 0.5 0.02"/>
            </geometry>
        </collision>
    </link>
    <!-- Joint: right_arm, right_arm_sensor_2_bottom -->
    <joint name="right_arm_right_arm_sensor_2_bottom_joint" type="fixed">
        <parent link="right_arm"/>
        <child link="right_arm_sensor_2_bottom"/>
        <origin xyz="0.8333333333333335 0 -0.25"
                rpy="0 0 0"/>
        <axis xyz="1 0 0"/>
        
    </joint>


    <!-- right_arm_sensor_2_left -->
    <link name="right_arm_sensor_2_left">
        <inertial>
            <origin xyz="0 0 0" rpy="0 0 0"/>
            <mass value="0"/>
            <inertia ixx="0" ixy="0" ixz="0" iyy="0" iyz="0" izz="0"/>
        </inertial>
        <visual>
            <origin xyz="0 0 0" rpy="0 0 0"/>
            <geometry>
                <box size="0.8333333333333334 0.02 0.5"/>
            </geometry>
        </visual>
        <collision>
            <origin xyz="0 0 0" rpy="0 0 0"/>
            <geometry>
                <box size="0.8333333333333334 0.02 0.5"/>
            </geometry>
        </collision>
    </link>
    <!-- Joint: right_arm, right_arm_sensor_2_left -->
    <joint name="right_arm_right_arm_sensor_2_left_joint" type="fixed">
        <parent link="right_arm"/>
        <child link="right_arm_sensor_2_left"/>
        <origin xyz="0.8333333333333335 0.25 0"
                rpy="0 0 0"/>
        <axis xyz="1 0 0"/>
        
    </joint>


    <!-- right_arm_sensor_2_right -->
    <link name="right_arm_sensor_2_right">
        <inertial>
            <origin xyz="0 0 0" rpy="0 0 0"/>
            <mass value="0"/>
            <inertia ixx="0" ixy="0" ixz="0" iyy="0" iyz="0" izz="0"/>
        </inertial>
        <visual>
            <origin xyz="0 0 0" rpy="0 0 0"/>
            <geometry>
                <box size="0.8333333333333334 0.02 0.5"/>
            </geometry>
        </visual>
        <collision>
            <origin xyz="0 0 0" rpy="0 0 0"/>
            <geometry>
                <box size="0.8333333333333334 0.02 0.5"/>
            </geometry>
        </collision>
    </link>
    <!-- Joint: right_arm, right_arm_sensor_2_right -->
    <joint name="right_arm_right_arm_sensor_2_right_joint" type="fixed">
        <parent link="right_arm"/>
        <child link="right_arm_sensor_2_right"/>
        <origin xyz="0.8333333333333335 -0.25 0"
                rpy="0 0 0"/>
        <axis xyz="1 0 0"/>
        
    </joint>
    <!-- Joint: joint_4, right_arm -->
    <joint name="joint_4_right_arm_joint" type="fixed">
        <parent link="joint_4"/>
        <child link="right_arm"/>
        <origin xyz="1.5 0 0"
                rpy="0 0 0"/>
        <axis xyz="1 0 0"/>
        
    </joint>


    <!-- right_hand -->
    <link name="right_hand">
        <inertial>
            <origin xyz="0 0 0" rpy="0 0 0"/>
            <mass value="0.1"/>
            <inertia ixx="0.05" ixy="0.05" ixz="0.05" iyy="0.05" iyz="0.05" izz="0.05"/>
        </inertial>
        <visual>
            <origin xyz="0 0 0" rpy="0 0 0"/>
            <geometry>
                <box size="0.5 0.65 0.5"/>
            </geometry>
        </visual>
        <collision>
            <origin xyz="0 0 0" rpy="0 0 0"/>
            <geometry>
                <box size="0.5 0.65 0.5"/>
            </geometry>
        </collision>
    </link>


    <!-- right_hand_sensor_0_start -->
    <link name="right_hand_sensor_0_start">
        <inertial>
            <origin xyz="0 0 0" rpy="0 0 0"/>
            <mass value="0"/>
            <inertia ixx="0" ixy="0" ixz="0" iyy="0" iyz="0" izz="0"/>
        </inertial>
        <visual>
            <origin xyz="0 0 0" rpy="0 0 0"/>
            <geometry>
                <box size="0.5 0.02 0.5"/>
            </geometry>
        </visual>
        <collision>
            <origin xyz="0 0 0" rpy="0 0 0"/>
            <geometry>
                <box size="0.5 0.02 0.5"/>
            </geometry>
        </collision>
    </link>
    <!-- Joint: right_hand, right_hand_sensor_0_start -->
    <joint name="right_hand_right_hand_sensor_0_start_joint" type="fixed">
        <parent link="right_hand"/>
        <child link="right_hand_sensor_0_start"/>
        <origin xyz="0 0.325 0"
                rpy="0 0 0"/>
        <axis xyz="0 0 1"/>
        
    </joint>


    <!-- right_hand_sensor_0_top -->
    <link name="right_hand_sensor_0_top">
        <inertial>
            <origin xyz="0 0 0" rpy="0 0 0"/>
            <mass value="0"/>
            <inertia ixx="0" ixy="0" ixz="0" iyy="0" iyz="0" izz="0"/>
        </inertial>
        <visual>
            <origin xyz="0 0 0" rpy="0 0 0"/>
            <geometry>
                <box size="0.02 0.65 0.5"/>
            </geometry>
        </visual>
        <collision>
            <origin xyz="0 0 0" rpy="0 0 0"/>
            <geometry>
                <box size="0.02 0.65 0.5"/>
            </geometry>
        </collision>
    </link>
    <!-- Joint: right_hand, right_hand_sensor_0_top -->
    <joint name="right_hand_right_hand_sensor_0_top_joint" type="fixed">
        <parent link="right_hand"/>
        <child link="right_hand_sensor_0_top"/>
        <origin xyz="0.25 0 0"
                rpy="0 0 0"/>
        <axis xyz="0 0 1"/>
        
    </joint>


    <!-- right_hand_sensor_0_bottom -->
    <link name="right_hand_sensor_0_bottom">
        <inertial>
            <origin xyz="0 0 0" rpy="0 0 0"/>
            <mass value="0"/>
            <inertia ixx="0" ixy="0" ixz="0" iyy="0" iyz="0" izz="0"/>
        </inertial>
        <visual>
            <origin xyz="0 0 0" rpy="0 0 0"/>
            <geometry>
                <box size="0.02 0.65 0.5"/>
            </geometry>
        </visual>
        <collision>
            <origin xyz="0 0 0" rpy="0 0 0"/>
            <geometry>
                <box size="0.02 0.65 0.5"/>
            </geometry>
        </collision>
    </link>
    <!-- Joint: right_hand, right_hand_sensor_0_bottom -->
    <joint name="right_hand_right_hand_sensor_0_bottom_joint" type="fixed">
        <parent link="right_hand"/>
        <child link="right_hand_sensor_0_bottom"/>
        <origin xyz="-0.25 0 0"
                rpy="0 0 0"/>
        <axis xyz="0 0 1"/>
        
    </joint>


    <!-- right_hand_sensor_0_left -->
    <link name="right_hand_sensor_0_left">
        <inertial>
            <origin xyz="0 0 0" rpy="0 0 0"/>
            <mass value="0"/>
            <inertia ixx="0" ixy="0" ixz="0" iyy="0" iyz="0" izz="0"/>
        </inertial>
        <visual>
            <origin xyz="0 0 0" rpy="0 0 0"/>
            <geometry>
                <box size="0.5 0.65 0.02"/>
            </geometry>
        </visual>
        <collision>
            <origin xyz="0 0 0" rpy="0 0 0"/>
            <geometry>
                <box size="0.5 0.65 0.02"/>
            </geometry>
        </collision>
    </link>
    <!-- Joint: right_hand, right_hand_sensor_0_left -->
    <joint name="right_hand_right_hand_sensor_0_left_joint" type="fixed">
        <parent link="right_hand"/>
        <child link="right_hand_sensor_0_left"/>
        <origin xyz="0 0 0.25"
                rpy="0 0 0"/>
        <axis xyz="0 0 1"/>
        
    </joint>


    <!-- right_hand_sensor_0_right -->
    <link name="right_hand_sensor_0_right">
        <inertial>
            <origin xyz="0 0 0" rpy="0 0 0"/>
            <mass value="0"/>
            <inertia ixx="0" ixy="0" ixz="0" iyy="0" iyz="0" izz="0"/>
        </inertial>
        <visual>
            <origin xyz="0 0 0" rpy="0 0 0"/>
            <geometry>
                <box size="0.5 0.65 0.02"/>
            </geometry>
        </visual>
        <collision>
            <origin xyz="0 0 0" rpy="0 0 0"/>
            <geometry>
                <box size="0.5 0.65 0.02"/>
            </geometry>
        </collision>
    </link>
    <!-- Joint: right_hand, right_hand_sensor_0_right -->
    <joint name="right_hand_right_hand_sensor_0_right_joint" type="fixed">
        <parent link="right_hand"/>
        <child link="right_hand_sensor_0_right"/>
        <origin xyz="0 0 -0.25"
                rpy="0 0 0"/>
        <axis xyz="0 0 1"/>
        
    </joint>
    <!-- Joint: right_arm, right_hand -->
    <joint name="right_arm_right_hand_joint" type="fixed">
        <parent link="right_arm"/>
        <child link="right_hand"/>
        <origin xyz="1.0 0.575 0"
                rpy="0 0 0"/>
        <axis xyz="0 0 1"/>
        
    </joint>


    <!-- body_face_front_0 -->
    <link name="body_face_front_0">
        <inertial>
            <origin xyz="0 0 0" rpy="0 0 0"/>
            <mass value="0"/>
            <inertia ixx="0.05" ixy="0.05" ixz="0.05" iyy="0.05" iyz="0.05" izz="0.05"/>
        </inertial>
        <visual>
            <origin xyz="0 0 0" rpy="0 0 0"/>
            <geometry>
                <box size="0.002 0.1111111111111111 0.1111111111111111"/>
            </geometry>
        </visual>
        <collision>
            <origin xyz="0 0 0" rpy="0 0 0"/>
            <geometry>
                <box size="0.002 0.1111111111111111 0.1111111111111111"/>
            </geometry>
        </collision>
    </link>
    <!-- Joint: body, body_face_front_0 -->
    <joint name="body_body_face_front_0_joint" type="fixed">
        <parent link="body"/>
        <child link="body_face_front_0"/>
        <origin xyz="0.501 -0.33333333333333337 0.11111111111111116"
                rpy="0 0 0"/>
        <axis xyz="0 0 1"/>
        
    </joint>


    <!-- body_face_front_1 -->
    <link name="body_face_front_1">
        <inertial>
            <origin xyz="0 0 0" rpy="0 0 0"/>
            <mass value="0"/>
            <inertia ixx="0.05" ixy="0.05" ixz="0.05" iyy="0.05" iyz="0.05" izz="0.05"/>
        </inertial>
        <visual>
            <origin xyz="0 0 0" rpy="0 0 0"/>
            <geometry>
                <box size="0.002 0.1111111111111111 0.1111111111111111"/>
            </geometry>
        </visual>
        <collision>
            <origin xyz="0 0 0" rpy="0 0 0"/>
            <geometry>
                <box size="0.002 0.1111111111111111 0.1111111111111111"/>
            </geometry>
        </collision>
    </link>
    <!-- Joint: body, body_face_front_1 -->
    <joint name="body_body_face_front_1_joint" type="fixed">
        <parent link="body"/>
        <child link="body_face_front_1"/>
        <origin xyz="0.501 -0.2222222222222222 0.2222222222222222"
                rpy="0 0 0"/>
        <axis xyz="0 0 1"/>
        
    </joint>


    <!-- body_face_front_2 -->
    <link name="body_face_front_2">
        <inertial>
            <origin xyz="0 0 0" rpy="0 0 0"/>
            <mass value="0"/>
            <inertia ixx="0.05" ixy="0.05" ixz="0.05" iyy="0.05" iyz="0.05" izz="0.05"/>
        </inertial>
        <visual>
            <origin xyz="0 0 0" rpy="0 0 0"/>
            <geometry>
                <box size="0.002 0.1111111111111111 0.1111111111111111"/>
            </geometry>
        </visual>
        <collision>
            <origin xyz="0 0 0" rpy="0 0 0"/>
            <geometry>
                <box size="0.002 0.1111111111111111 0.1111111111111111"/>
            </geometry>
        </collision>
    </link>
    <!-- Joint: body, body_face_front_2 -->
    <joint name="body_body_face_front_2_joint" type="fixed">
        <parent link="body"/>
        <child link="body_face_front_2"/>
        <origin xyz="0.501 -0.1111111111111111 0.11111111111111116"
                rpy="0 0 0"/>
        <axis xyz="0 0 1"/>
        
    </joint>


    <!-- body_face_front_3 -->
    <link name="body_face_front_3">
        <inertial>
            <origin xyz="0 0 0" rpy="0 0 0"/>
            <mass value="0"/>
            <inertia ixx="0.05" ixy="0.05" ixz="0.05" iyy="0.05" iyz="0.05" izz="0.05"/>
        </inertial>
        <visual>
            <origin xyz="0 0 0" rpy="0 0 0"/>
            <geometry>
                <box size="0.002 0.1111111111111111 0.1111111111111111"/>
            </geometry>
        </visual>
        <collision>
            <origin xyz="0 0 0" rpy="0 0 0"/>
            <geometry>
                <box size="0.002 0.1111111111111111 0.1111111111111111"/>
            </geometry>
        </collision>
    </link>
    <!-- Joint: body, body_face_front_3 -->
    <joint name="body_body_face_front_3_joint" type="fixed">
        <parent link="body"/>
        <child link="body_face_front_3"/>
        <origin xyz="0.501 -0.1111111111111111 -0.2222222222222222"
                rpy="0 0 0"/>
        <axis xyz="0 0 1"/>
        
    </joint>


    <!-- body_face_front_4 -->
    <link name="body_face_front_4">
        <inertial>
            <origin xyz="0 0 0" rpy="0 0 0"/>
            <mass value="0"/>
            <inertia ixx="0.05" ixy="0.05" ixz="0.05" iyy="0.05" iyz="0.05" izz="0.05"/>
        </inertial>
        <visual>
            <origin xyz="0 0 0" rpy="0 0 0"/>
            <geometry>
                <box size="0.002 0.1111111111111111 0.1111111111111111"/>
            </geometry>
        </visual>
        <collision>
            <origin xyz="0 0 0" rpy="0 0 0"/>
            <geometry>
                <box size="0.002 0.1111111111111111 0.1111111111111111"/>
            </geometry>
        </collision>
    </link>
    <!-- Joint: body, body_face_front_4 -->
    <joint name="body_body_face_front_4_joint" type="fixed">
        <parent link="body"/>
        <child link="body_face_front_4"/>
        <origin xyz="0.501 0.0 -0.2222222222222222"
                rpy="0 0 0"/>
        <axis xyz="0 0 1"/>
        
    </joint>


    <!-- body_face_front_5 -->
    <link name="body_face_front_5">
        <inertial>
            <origin xyz="0 0 0" rpy="0 0 0"/>
            <mass value="0"/>
            <inertia ixx="0.05" ixy="0.05" ixz="0.05" iyy="0.05" iyz="0.05" izz="0.05"/>
        </inertial>
        <visual>
            <origin xyz="0 0 0" rpy="0 0 0"/>
            <geometry>
                <box size="0.002 0.1111111111111111 0.1111111111111111"/>
            </geometry>
        </visual>
        <collision>
            <origin xyz="0 0 0" rpy="0 0 0"/>
            <geometry>
                <box size="0.002 0.1111111111111111 0.1111111111111111"/>
            </geometry>
        </collision>
    </link>
    <!-- Joint: body, body_face_front_5 -->
    <joint name="body_body_face_front_5_joint" type="fixed">
        <parent link="body"/>
        <child link="body_face_front_5"/>
        <origin xyz="0.501 0.11111111111111116 0.11111111111111116"
                rpy="0 0 0"/>
        <axis xyz="0 0 1"/>
        
    </joint>


    <!-- body_face_front_6 -->
    <link name="body_face_front_6">
        <inertial>
            <origin xyz="0 0 0" rpy="0 0 0"/>
            <mass value="0"/>
            <inertia ixx="0.05" ixy="0.05" ixz="0.05" iyy="0.05" iyz="0.05" izz="0.05"/>
        </inertial>
        <visual>
            <origin xyz="0 0 0" rpy="0 0 0"/>
            <geometry>
                <box size="0.002 0.1111111111111111 0.1111111111111111"/>
            </geometry>
        </visual>
        <collision>
            <origin xyz="0 0 0" rpy="0 0 0"/>
            <geometry>
                <box size="0.002 0.1111111111111111 0.1111111111111111"/>
            </geometry>
        </collision>
    </link>
    <!-- Joint: body, body_face_front_6 -->
    <joint name="body_body_face_front_6_joint" type="fixed">
        <parent link="body"/>
        <child link="body_face_front_6"/>
        <origin xyz="0.501 0.11111111111111116 -0.2222222222222222"
                rpy="0 0 0"/>
        <axis xyz="0 0 1"/>
        
    </joint>


    <!-- body_face_front_7 -->
    <link name="body_face_front_7">
        <inertial>
            <origin xyz="0 0 0" rpy="0 0 0"/>
            <mass value="0"/>
            <inertia ixx="0.05" ixy="0.05" ixz="0.05" iyy="0.05" iyz="0.05" izz="0.05"/>
        </inertial>
        <visual>
            <origin xyz="0 0 0" rpy="0 0 0"/>
            <geometry>
                <box size="0.002 0.1111111111111111 0.1111111111111111"/>
            </geometry>
        </visual>
        <collision>
            <origin xyz="0 0 0" rpy="0 0 0"/>
            <geometry>
                <box size="0.002 0.1111111111111111 0.1111111111111111"/>
            </geometry>
        </collision>
    </link>
    <!-- Joint: body, body_face_front_7 -->
    <joint name="body_body_face_front_7_joint" type="fixed">
        <parent link="body"/>
        <child link="body_face_front_7"/>
        <origin xyz="0.501 0.2222222222222222 0.2222222222222222"
                rpy="0 0 0"/>
        <axis xyz="0 0 1"/>
        
    </joint>


    <!-- body_face_front_8 -->
    <link name="body_face_front_8">
        <inertial>
            <origin xyz="0 0 0" rpy="0 0 0"/>
            <mass value="0"/>
            <inertia ixx="0.05" ixy="0.05" ixz="0.05" iyy="0.05" iyz="0.05" izz="0.05"/>
        </inertial>
        <visual>
            <origin xyz="0 0 0" rpy="0 0 0"/>
            <geometry>
                <box size="0.002 0.1111111111111111 0.1111111111111111"/>
            </geometry>
        </visual>
        <collision>
            <origin xyz="0 0 0" rpy="0 0 0"/>
            <geometry>
                <box size="0.002 0.1111111111111111 0.1111111111111111"/>
            </geometry>
        </collision>
    </link>
    <!-- Joint: body, body_face_front_8 -->
    <joint name="body_body_face_front_8_joint" type="fixed">
        <parent link="body"/>
        <child link="body_face_front_8"/>
        <origin xyz="0.501 0.33333333333333337 0.11111111111111116"
                rpy="0 0 0"/>
        <axis xyz="0 0 1"/>
        
    </joint>


    <!-- body_face_top_0 -->
    <link name="body_face_top_0">
        <inertial>
            <origin xyz="0 0 0" rpy="0 0 0"/>
            <mass value="0"/>
            <inertia ixx="0.05" ixy="0.05" ixz="0.05" iyy="0.05" iyz="0.05" izz="0.05"/>
        </inertial>
        <visual>
            <origin xyz="0 0 0" rpy="0 0 0"/>
            <geometry>
                <box size="0.1111111111111111 0.1111111111111111 0.002"/>
            </geometry>
        </visual>
        <collision>
            <origin xyz="0 0 0" rpy="0 0 0"/>
            <geometry>
                <box size="0.1111111111111111 0.1111111111111111 0.002"/>
            </geometry>
        </collision>
    </link>
    <!-- Joint: body, body_face_top_0 -->
    <joint name="body_body_face_top_0_joint" type="fixed">
        <parent link="body"/>
        <child link="body_face_top_0"/>
        <origin xyz="0.11111111111111116 -0.2222222222222222 0.501"
                rpy="0 0 0"/>
        <axis xyz="0 0 1"/>
        
    </joint>


    <!-- body_face_top_1 -->
    <link name="body_face_top_1">
        <inertial>
            <origin xyz="0 0 0" rpy="0 0 0"/>
            <mass value="0"/>
            <inertia ixx="0.05" ixy="0.05" ixz="0.05" iyy="0.05" iyz="0.05" izz="0.05"/>
        </inertial>
        <visual>
            <origin xyz="0 0 0" rpy="0 0 0"/>
            <geometry>
                <box size="0.1111111111111111 0.1111111111111111 0.002"/>
            </geometry>
        </visual>
        <collision>
            <origin xyz="0 0 0" rpy="0 0 0"/>
            <geometry>
                <box size="0.1111111111111111 0.1111111111111111 0.002"/>
            </geometry>
        </collision>
    </link>
    <!-- Joint: body, body_face_top_1 -->
    <joint name="body_body_face_top_1_joint" type="fixed">
        <parent link="body"/>
        <child link="body_face_top_1"/>
        <origin xyz="0.11111111111111116 -0.1111111111111111 0.501"
                rpy="0 0 0"/>
        <axis xyz="0 0 1"/>
        
    </joint>


    <!-- body_face_top_2 -->
    <link name="body_face_top_2">
        <inertial>
            <origin xyz="0 0 0" rpy="0 0 0"/>
            <mass value="0"/>
            <inertia ixx="0.05" ixy="0.05" ixz="0.05" iyy="0.05" iyz="0.05" izz="0.05"/>
        </inertial>
        <visual>
            <origin xyz="0 0 0" rpy="0 0 0"/>
            <geometry>
                <box size="0.1111111111111111 0.1111111111111111 0.002"/>
            </geometry>
        </visual>
        <collision>
            <origin xyz="0 0 0" rpy="0 0 0"/>
            <geometry>
                <box size="0.1111111111111111 0.1111111111111111 0.002"/>
            </geometry>
        </collision>
    </link>
    <!-- Joint: body, body_face_top_2 -->
    <joint name="body_body_face_top_2_joint" type="fixed">
        <parent link="body"/>
        <child link="body_face_top_2"/>
        <origin xyz="0.2222222222222222 -0.1111111111111111 0.501"
                rpy="0 0 0"/>
        <axis xyz="0 0 1"/>
        
    </joint>


    <!-- body_face_top_3 -->
    <link name="body_face_top_3">
        <inertial>
            <origin xyz="0 0 0" rpy="0 0 0"/>
            <mass value="0"/>
            <inertia ixx="0.05" ixy="0.05" ixz="0.05" iyy="0.05" iyz="0.05" izz="0.05"/>
        </inertial>
        <visual>
            <origin xyz="0 0 0" rpy="0 0 0"/>
            <geometry>
                <box size="0.1111111111111111 0.1111111111111111 0.002"/>
            </geometry>
        </visual>
        <collision>
            <origin xyz="0 0 0" rpy="0 0 0"/>
            <geometry>
                <box size="0.1111111111111111 0.1111111111111111 0.002"/>
            </geometry>
        </collision>
    </link>
    <!-- Joint: body, body_face_top_3 -->
    <joint name="body_body_face_top_3_joint" type="fixed">
        <parent link="body"/>
        <child link="body_face_top_3"/>
        <origin xyz="-0.33333333333333337 0.0 0.501"
                rpy="0 0 0"/>
        <axis xyz="0 0 1"/>
        
    </joint>


    <!-- body_face_top_4 -->
    <link name="body_face_top_4">
        <inertial>
            <origin xyz="0 0 0" rpy="0 0 0"/>
            <mass value="0"/>
            <inertia ixx="0.05" ixy="0.05" ixz="0.05" iyy="0.05" iyz="0.05" izz="0.05"/>
        </inertial>
        <visual>
            <origin xyz="0 0 0" rpy="0 0 0"/>
            <geometry>
                <box size="0.1111111111111111 0.1111111111111111 0.002"/>
            </geometry>
        </visual>
        <collision>
            <origin xyz="0 0 0" rpy="0 0 0"/>
            <geometry>
                <box size="0.1111111111111111 0.1111111111111111 0.002"/>
            </geometry>
        </collision>
    </link>
    <!-- Joint: body, body_face_top_4 -->
    <joint name="body_body_face_top_4_joint" type="fixed">
        <parent link="body"/>
        <child link="body_face_top_4"/>
        <origin xyz="-0.2222222222222222 0.0 0.501"
                rpy="0 0 0"/>
        <axis xyz="0 0 1"/>
        
    </joint>


    <!-- body_face_top_5 -->
    <link name="body_face_top_5">
        <inertial>
            <origin xyz="0 0 0" rpy="0 0 0"/>
            <mass value="0"/>
            <inertia ixx="0.05" ixy="0.05" ixz="0.05" iyy="0.05" iyz="0.05" izz="0.05"/>
        </inertial>
        <visual>
            <origin xyz="0 0 0" rpy="0 0 0"/>
            <geometry>
                <box size="0.1111111111111111 0.1111111111111111 0.002"/>
            </geometry>
        </visual>
        <collision>
            <origin xyz="0 0 0" rpy="0 0 0"/>
            <geometry>
                <box size="0.1111111111111111 0.1111111111111111 0.002"/>
            </geometry>
        </collision>
    </link>
    <!-- Joint: body, body_face_top_5 -->
    <joint name="body_body_face_top_5_joint" type="fixed">
        <parent link="body"/>
        <child link="body_face_top_5"/>
        <origin xyz="-0.1111111111111111 0.0 0.501"
                rpy="0 0 0"/>
        <axis xyz="0 0 1"/>
        
    </joint>


    <!-- body_face_top_6 -->
    <link name="body_face_top_6">
        <inertial>
            <origin xyz="0 0 0" rpy="0 0 0"/>
            <mass value="0"/>
            <inertia ixx="0.05" ixy="0.05" ixz="0.05" iyy="0.05" iyz="0.05" izz="0.05"/>
        </inertial>
        <visual>
            <origin xyz="0 0 0" rpy="0 0 0"/>
            <geometry>
                <box size="0.1111111111111111 0.1111111111111111 0.002"/>
            </geometry>
        </visual>
        <collision>
            <origin xyz="0 0 0" rpy="0 0 0"/>
            <geometry>
                <box size="0.1111111111111111 0.1111111111111111 0.002"/>
            </geometry>
        </collision>
    </link>
    <!-- Joint: body, body_face_top_6 -->
    <joint name="body_body_face_top_6_joint" type="fixed">
        <parent link="body"/>
        <child link="body_face_top_6"/>
        <origin xyz="0.0 0.0 0.501"
                rpy="0 0 0"/>
        <axis xyz="0 0 1"/>
        
    </joint>


    <!-- body_face_top_7 -->
    <link name="body_face_top_7">
        <inertial>
            <origin xyz="0 0 0" rpy="0 0 0"/>
            <mass value="0"/>
            <inertia ixx="0.05" ixy="0.05" ixz="0.05" iyy="0.05" iyz="0.05" izz="0.05"/>
        </inertial>
        <visual>
            <origin xyz="0 0 0" rpy="0 0 0"/>
            <geometry>
                <box size="0.1111111111111111 0.1111111111111111 0.002"/>
            </geometry>
        </visual>
        <collision>
            <origin xyz="0 0 0" rpy="0 0 0"/>
            <geometry>
                <box size="0.1111111111111111 0.1111111111111111 0.002"/>
            </geometry>
        </collision>
    </link>
    <!-- Joint: body, body_face_top_7 -->
    <joint name="body_body_face_top_7_joint" type="fixed">
        <parent link="body"/>
        <child link="body_face_top_7"/>
        <origin xyz="0.11111111111111116 0.0 0.501"
                rpy="0 0 0"/>
        <axis xyz="0 0 1"/>
        
    </joint>


    <!-- body_face_top_8 -->
    <link name="body_face_top_8">
        <inertial>
            <origin xyz="0 0 0" rpy="0 0 0"/>
            <mass value="0"/>
            <inertia ixx="0.05" ixy="0.05" ixz="0.05" iyy="0.05" iyz="0.05" izz="0.05"/>
        </inertial>
        <visual>
            <origin xyz="0 0 0" rpy="0 0 0"/>
            <geometry>
                <box size="0.1111111111111111 0.1111111111111111 0.002"/>
            </geometry>
        </visual>
        <collision>
            <origin xyz="0 0 0" rpy="0 0 0"/>
            <geometry>
                <box size="0.1111111111111111 0.1111111111111111 0.002"/>
            </geometry>
        </collision>
    </link>
    <!-- Joint: body, body_face_top_8 -->
    <joint name="body_body_face_top_8_joint" type="fixed">
        <parent link="body"/>
        <child link="body_face_top_8"/>
        <origin xyz="0.2222222222222222 0.0 0.501"
                rpy="0 0 0"/>
        <axis xyz="0 0 1"/>
        
    </joint>


    <!-- body_face_top_9 -->
    <link name="body_face_top_9">
        <inertial>
            <origin xyz="0 0 0" rpy="0 0 0"/>
            <mass value="0"/>
            <inertia ixx="0.05" ixy="0.05" ixz="0.05" iyy="0.05" iyz="0.05" izz="0.05"/>
        </inertial>
        <visual>
            <origin xyz="0 0 0" rpy="0 0 0"/>
            <geometry>
                <box size="0.1111111111111111 0.1111111111111111 0.002"/>
            </geometry>
        </visual>
        <collision>
            <origin xyz="0 0 0" rpy="0 0 0"/>
            <geometry>
                <box size="0.1111111111111111 0.1111111111111111 0.002"/>
            </geometry>
        </collision>
    </link>
    <!-- Joint: body, body_face_top_9 -->
    <joint name="body_body_face_top_9_joint" type="fixed">
        <parent link="body"/>
        <child link="body_face_top_9"/>
        <origin xyz="0.33333333333333337 0.0 0.501"
                rpy="0 0 0"/>
        <axis xyz="0 0 1"/>
        
    </joint>


    <!-- body_face_top_10 -->
    <link name="body_face_top_10">
        <inertial>
            <origin xyz="0 0 0" rpy="0 0 0"/>
            <mass value="0"/>
            <inertia ixx="0.05" ixy="0.05" ixz="0.05" iyy="0.05" iyz="0.05" izz="0.05"/>
        </inertial>
        <visual>
            <origin xyz="0 0 0" rpy="0 0 0"/>
            <geometry>
                <box size="0.1111111111111111 0.1111111111111111 0.002"/>
            </geometry>
        </visual>
        <collision>
            <origin xyz="0 0 0" rpy="0 0 0"/>
            <geometry>
                <box size="0.1111111111111111 0.1111111111111111 0.002"/>
            </geometry>
        </collision>
    </link>
    <!-- Joint: body, body_face_top_10 -->
    <joint name="body_body_face_top_10_joint" type="fixed">
        <parent link="body"/>
        <child link="body_face_top_10"/>
        <origin xyz="0.11111111111111116 0.11111111111111116 0.501"
                rpy="0 0 0"/>
        <axis xyz="0 0 1"/>
        
    </joint>


    <!-- body_face_top_11 -->
    <link name="body_face_top_11">
        <inertial>
            <origin xyz="0 0 0" rpy="0 0 0"/>
            <mass value="0"/>
            <inertia ixx="0.05" ixy="0.05" ixz="0.05" iyy="0.05" iyz="0.05" izz="0.05"/>
        </inertial>
        <visual>
            <origin xyz="0 0 0" rpy="0 0 0"/>
            <geometry>
                <box size="0.1111111111111111 0.1111111111111111 0.002"/>
            </geometry>
        </visual>
        <collision>
            <origin xyz="0 0 0" rpy="0 0 0"/>
            <geometry>
                <box size="0.1111111111111111 0.1111111111111111 0.002"/>
            </geometry>
        </collision>
    </link>
    <!-- Joint: body, body_face_top_11 -->
    <joint name="body_body_face_top_11_joint" type="fixed">
        <parent link="body"/>
        <child link="body_face_top_11"/>
        <origin xyz="0.2222222222222222 0.11111111111111116 0.501"
                rpy="0 0 0"/>
        <axis xyz="0 0 1"/>
        
    </joint>


    <!-- body_face_top_12 -->
    <link name="body_face_top_12">
        <inertial>
            <origin xyz="0 0 0" rpy="0 0 0"/>
            <mass value="0"/>
            <inertia ixx="0.05" ixy="0.05" ixz="0.05" iyy="0.05" iyz="0.05" izz="0.05"/>
        </inertial>
        <visual>
            <origin xyz="0 0 0" rpy="0 0 0"/>
            <geometry>
                <box size="0.1111111111111111 0.1111111111111111 0.002"/>
            </geometry>
        </visual>
        <collision>
            <origin xyz="0 0 0" rpy="0 0 0"/>
            <geometry>
                <box size="0.1111111111111111 0.1111111111111111 0.002"/>
            </geometry>
        </collision>
    </link>
    <!-- Joint: body, body_face_top_12 -->
    <joint name="body_body_face_top_12_joint" type="fixed">
        <parent link="body"/>
        <child link="body_face_top_12"/>
        <origin xyz="0.11111111111111116 0.2222222222222222 0.501"
                rpy="0 0 0"/>
        <axis xyz="0 0 1"/>
        
    </joint>


</robot>
